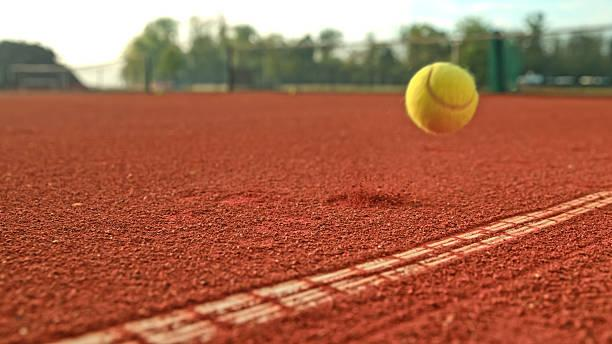ball_tennis: (406, 62, 480, 135)
